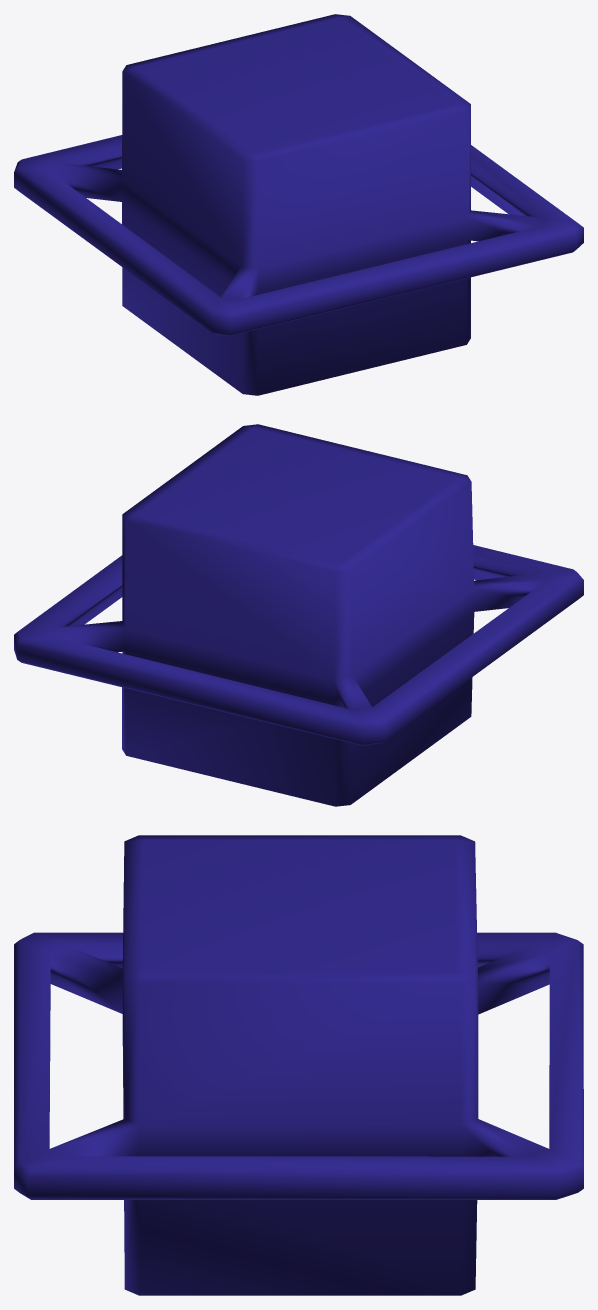
The model's file is rock_key.fbx.
3 renders of one model, top to bottom at view 1: azimuth 30°, elevation 25°; view 2: azimuth 150°, elevation 25°; view 3: azimuth 270°, elevation 25°, orthographic. The views are drawn at different scales.
Parts seen in each view (by area): view 1: rockkey_low; view 2: rockkey_low; view 3: rockkey_low.
Boxes of the visible parts, bbox=[...] form: rockkey_low: bbox=[14, 14, 583, 395]; rockkey_low: bbox=[14, 424, 583, 806]; rockkey_low: bbox=[14, 835, 583, 1295].
Bounding box in the file's own units: 79.86 × 79.79 × 49.63.
